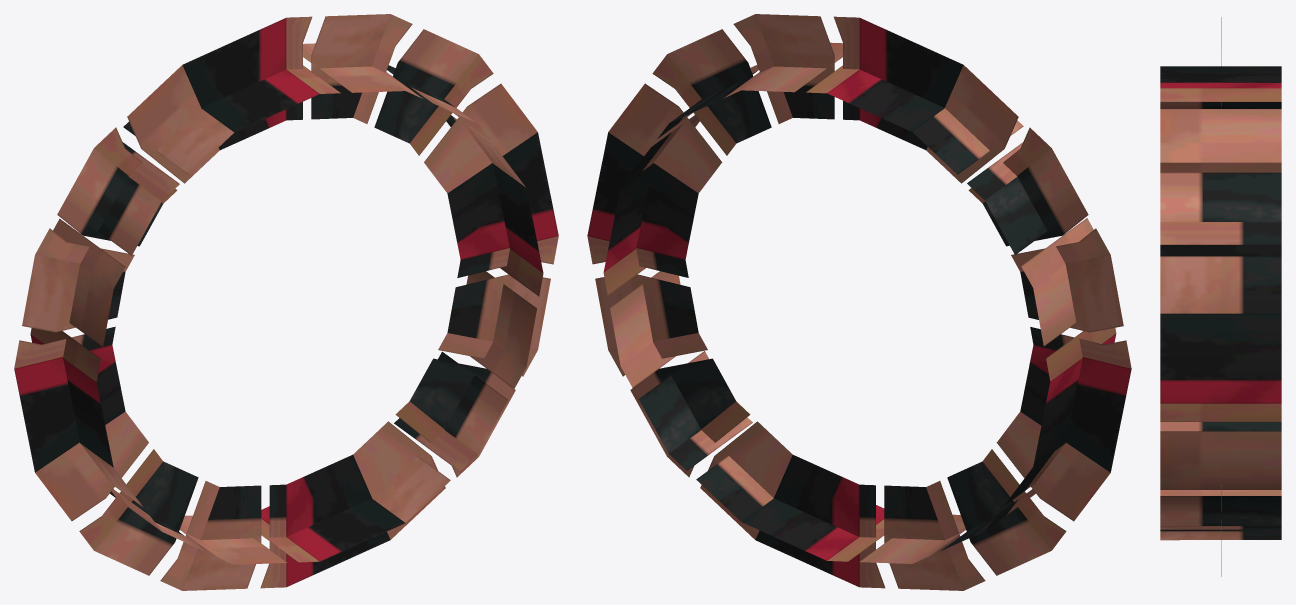
3 views of the same model, side by side, from view 1: azimuth 30°, elevation 25°; view 2: azimuth 150°, elevation 25°; view 3: azimuth 270°, elevation 25° (orthographic). The views are drawn at different scales.
Parts seen in each view (by area): view 1: T1L3M005_26; view 2: T1L3M005_26; view 3: T1L3M005_26.
Part boxes in pixels (left/top/right/bottom): T1L3M005_26: left=14, top=14, right=558, bottom=590; T1L3M005_26: left=587, top=14, right=1131, bottom=590; T1L3M005_26: left=1160, top=17, right=1281, bottom=576.
Bounding box in the file's own units: 2.83 × 2.83 × 0.5957.
